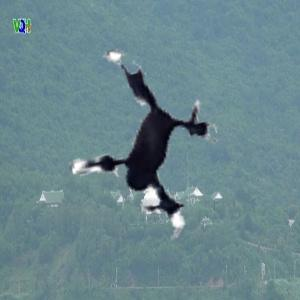drone: (20, 36, 245, 261)
